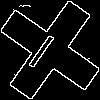I: (25, 25, 63, 70)
